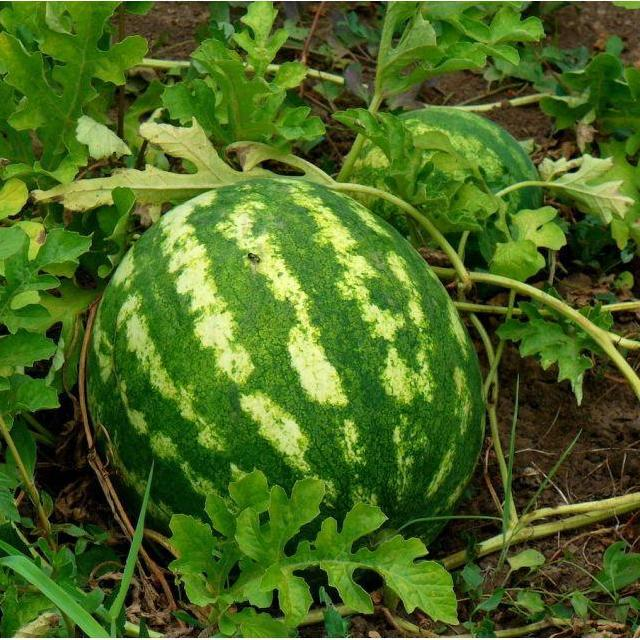watermelon: (102, 189, 486, 525)
